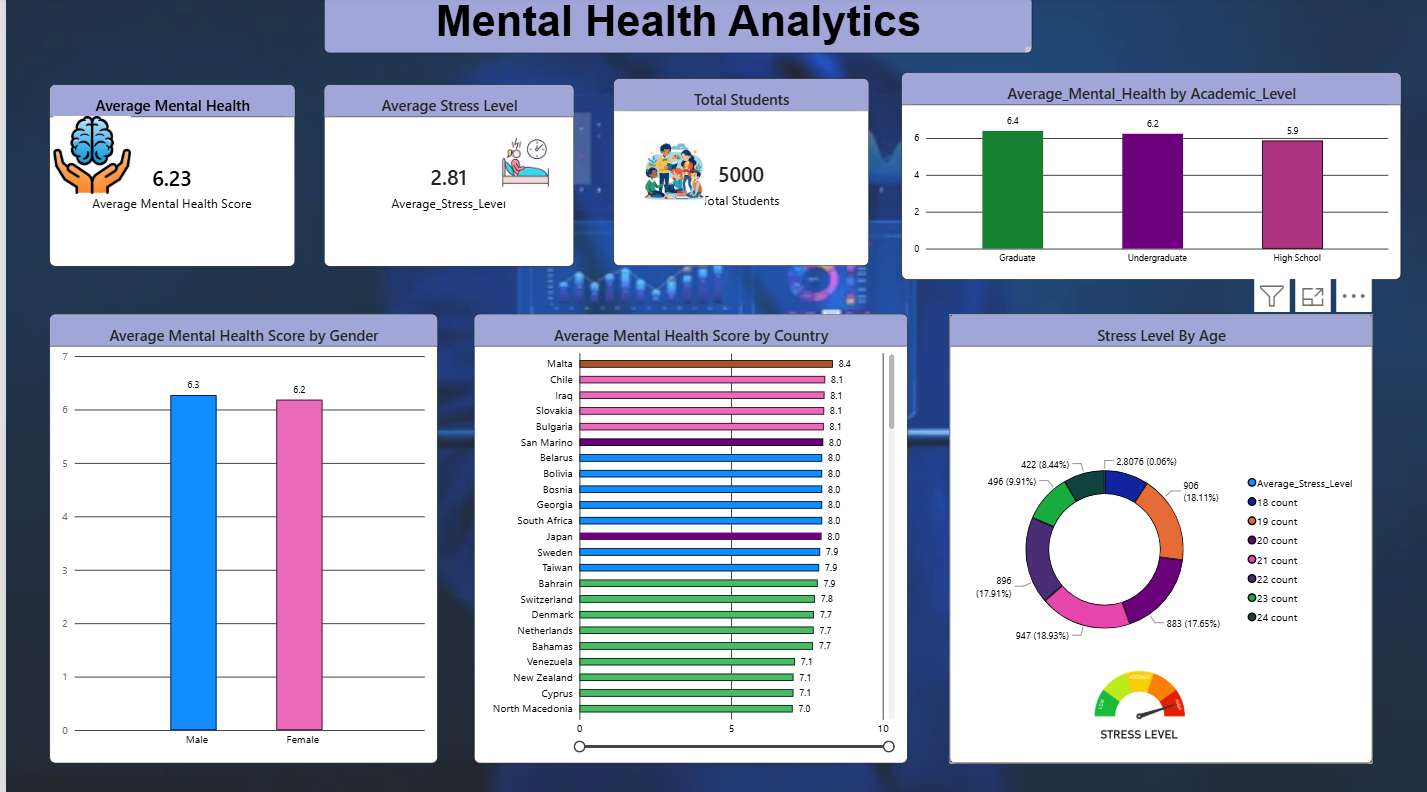

Layout of this report page (visuals, bound fields, positions):
{"tool":"powerbi","page":{"name":"Mental Health Analytics","canvas":[1920,1080],"ordinal":2},"visuals":[{"type":"card","title":"Average Mental Health","fields":{"Values":["Student Social Media And Mental Health Impact.Average Mental Health Score"]},"box":[59.1,120.5,332,246],"z":0,"group":"g1"},{"type":"card","title":"Average Stress Level","fields":{"Values":["Student Social Media And Mental Health Impact.Average_Stress_Level"]},"box":[430,120.5,337.9,245.7],"z":0},{"type":"card","title":"Total Students","fields":{"Values":["Student Social Media And Mental Health Impact.Total Students"]},"box":[819.8,111.2,349.7,252.8],"z":1000,"group":"g2"},{"type":"image","box":[60.1,164,115,105],"z":1000,"group":"g1"},{"type":"clusteredColumnChart","fields":{"Category":["Student Social Media And Mental Health Impact.Gender"],"Y":["Student Social Media And Mental Health Impact.Average Mental Health Score"]},"box":[59.1,430,524.5,607.2],"z":1000},{"type":"image","box":[634.1,173,135,105],"z":2000,"group":"g1"},{"type":"clusteredBarChart","fields":{"Category":["Student Social Media And Mental Health Impact.Country Hierarchy.Country","Student Social Media And Mental Health Impact.Country Hierarchy.Gender","Student Social Media And Mental Health Impact.Country Hierarchy.Academic_Level"],"Y":["Student Social Media And Mental Health Impact.Average Mental Health Score"]},"box":[633.2,430,585.9,607.2],"z":2000},{"type":"donutChart","title":"Stress Level By Age","fields":{"Y":["Student Social Media And Mental Health Impact.Average_Stress_Level","Student Social Media And Mental Health Impact.18 count","Student Social Media And Mental Health Impact.19 count","Student Social Media And Mental Health Impact.20 count","Student Social Media And Mental Health Impact.21 count","Student Social Media And Mental Health Impact.22 count","Student Social Media And Mental Health Impact.23 count","Student Social Media And Mental Health Impact.24 count"]},"box":[1275.8,430,571.8,607.2],"z":3000,"group":"g3"},{"type":"clusteredColumnChart","fields":{"Category":["Student Social Media And Mental Health Impact.Academic_Level"],"Y":["Student Social Media And Mental Health Impact.Average_Mental_Health"]},"box":[1219.1,111,701.7,281.2],"z":4000},{"type":"textbox","title":"Mental Health Analytics","box":[416,14,956,78],"z":5000},{"type":"group","id":"g1","title":"Group 1","box":[59.1,120.5,711.1,245.7],"z":6000},{"type":"group","id":"g2","title":"Group 2","box":[808,111.2,361.4,252.8],"z":7000},{"type":"image","box":[808,193.9,190,85],"z":7001,"group":"g2"},{"type":"image","box":[1330.3,894.7,404.8,130.7],"z":8000,"group":"g3"},{"type":"group","id":"g3","title":"Group 3","box":[1275.8,430,571.8,607.2],"z":8001}]}

Visuals, with their boxes in screenshot pixels (x1, y1, x2, y2), scaled from the page's 1920x1080 canvas onto the 1427x792 screenshot:
"Average Mental Health" card: {"x1": 44, "y1": 88, "x2": 291, "y2": 269}
"Average Stress Level" card: {"x1": 320, "y1": 88, "x2": 571, "y2": 269}
"Total Students" card: {"x1": 609, "y1": 82, "x2": 869, "y2": 267}
image: {"x1": 45, "y1": 120, "x2": 130, "y2": 197}
clusteredColumnChart - Student Social Media And Mental Health Impact.Gender x Student Social Media And Mental Health Impact.Average Mental Health Score: {"x1": 44, "y1": 315, "x2": 434, "y2": 761}
image: {"x1": 471, "y1": 127, "x2": 572, "y2": 204}
clusteredBarChart - Student Social Media And Mental Health Impact.Country Hierarchy.Country x Student Social Media And Mental Health Impact.Country Hierarchy.Gender: {"x1": 471, "y1": 315, "x2": 906, "y2": 761}
"Stress Level By Age" donutChart: {"x1": 948, "y1": 315, "x2": 1373, "y2": 761}
clusteredColumnChart - Student Social Media And Mental Health Impact.Academic_Level x Student Social Media And Mental Health Impact.Average_Mental_Health: {"x1": 906, "y1": 81, "x2": 1426, "y2": 288}
"Mental Health Analytics" textbox: {"x1": 309, "y1": 10, "x2": 1020, "y2": 67}
"Group 1" group: {"x1": 44, "y1": 88, "x2": 572, "y2": 269}
"Group 2" group: {"x1": 601, "y1": 82, "x2": 869, "y2": 267}
image: {"x1": 601, "y1": 142, "x2": 742, "y2": 205}
image: {"x1": 989, "y1": 656, "x2": 1290, "y2": 752}
"Group 3" group: {"x1": 948, "y1": 315, "x2": 1373, "y2": 761}
